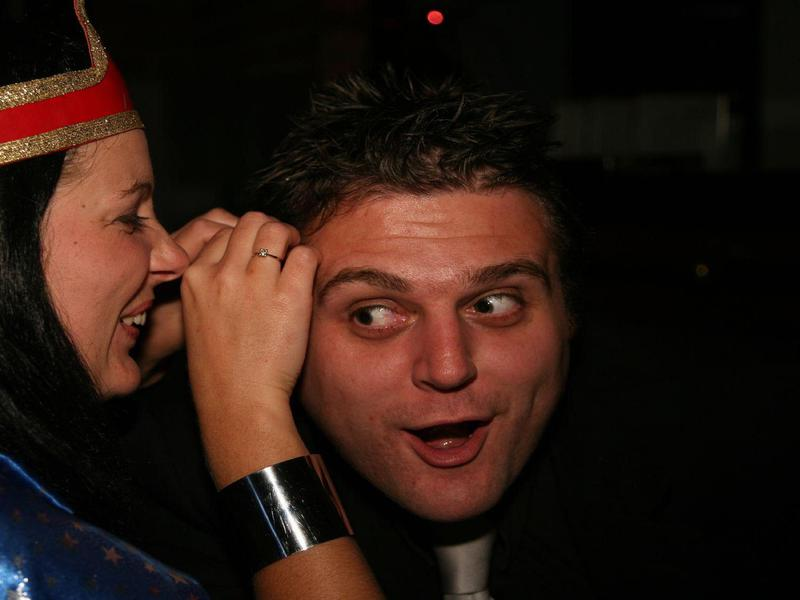person: (2, 4, 382, 600), (261, 86, 584, 600)
